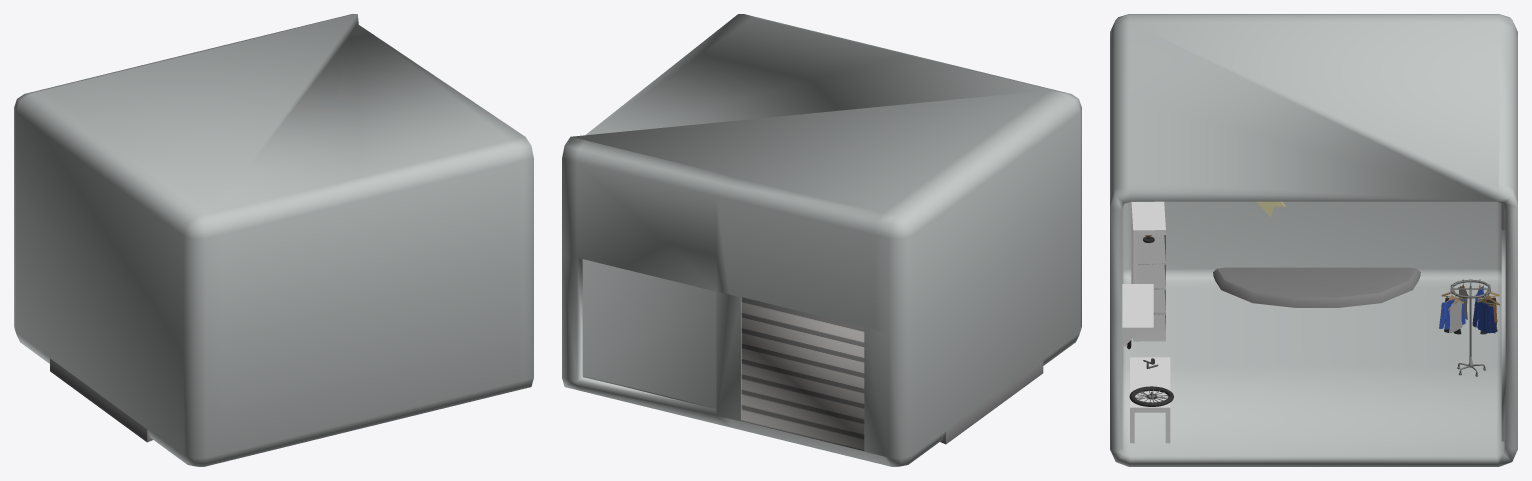
The model's file is blank room.fbx.
The picture shows the model from 3 angles, left to right: view 1: azimuth 30°, elevation 25°; view 2: azimuth 150°, elevation 25°; view 3: azimuth 270°, elevation 25°; orthographic projection. The views are drawn at different scales.
Parts seen in each view (by area): view 1: Cube.076, Cube.077; view 2: Cube.076, Cube.079, Cube.077; view 3: Cube.076, Cube.077, Cube.128, Cube.118, Cube.119, front wheel.005, Screenshot_2026-09-05_234627-removebg-preview, Screenshot_2026-09-05_234627-removebg-preview.001.
Boxes of the visible parts, x1,y1,x2,y2 form: Cube.076: (14,14,533,466); Cube.077: (50,358,152,442); Cube.076: (562,14,1081,466); Cube.079: (741,297,864,450); Cube.077: (940,360,1043,444); Cube.076: (1110,14,1517,466); Cube.077: (1213,267,1420,307); Cube.128: (1131,201,1165,341); Cube.118: (1130,357,1170,443); Cube.119: (1122,284,1153,346); front wheel.005: (1129,386,1173,406); Screenshot_2026-09-05_234627-removebg-preview: (1472,293,1495,333); Screenshot_2026-09-05_234627-removebg-preview.001: (1439,290,1465,329).
Bounding box in the file's own units: 2158 × 1509 × 2019.
